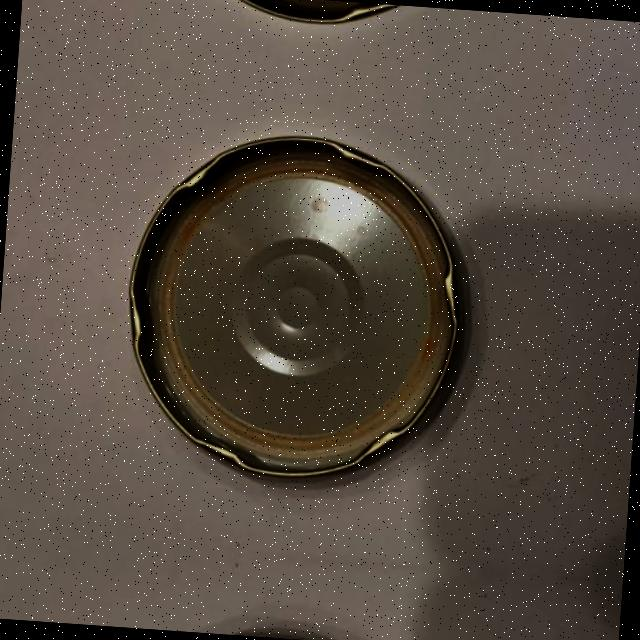Metal: (98, 116, 487, 512), (131, 0, 496, 41), (88, 603, 453, 640)
